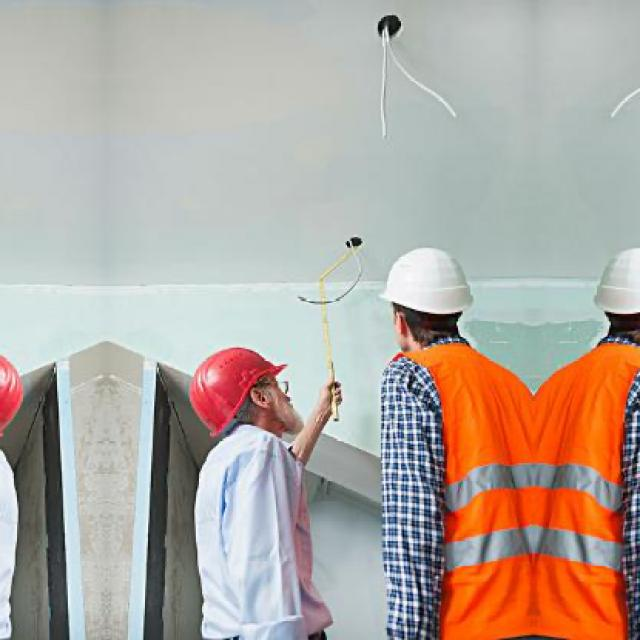helmet: (367, 235, 484, 363), (171, 332, 293, 443), (581, 234, 640, 363), (1, 332, 42, 445)
